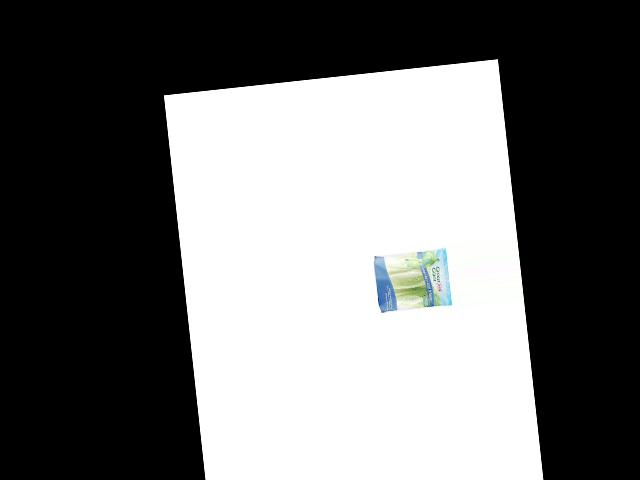lettuce: (369, 246, 448, 314)
